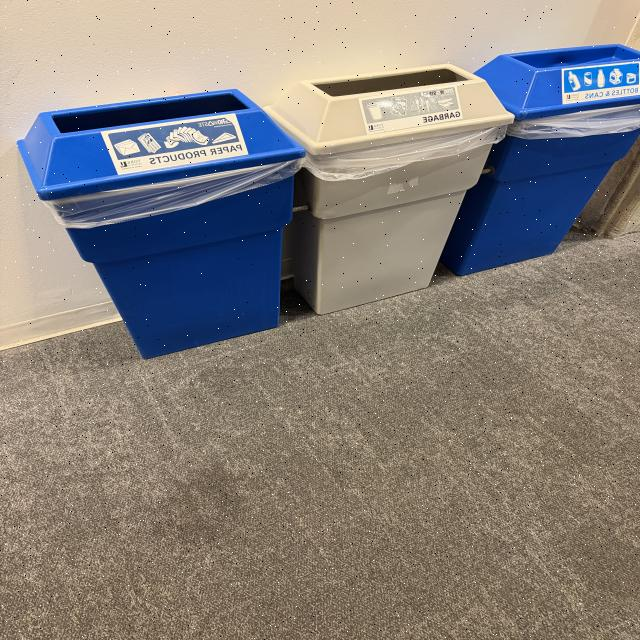Dustbin: (14, 40, 638, 361)
